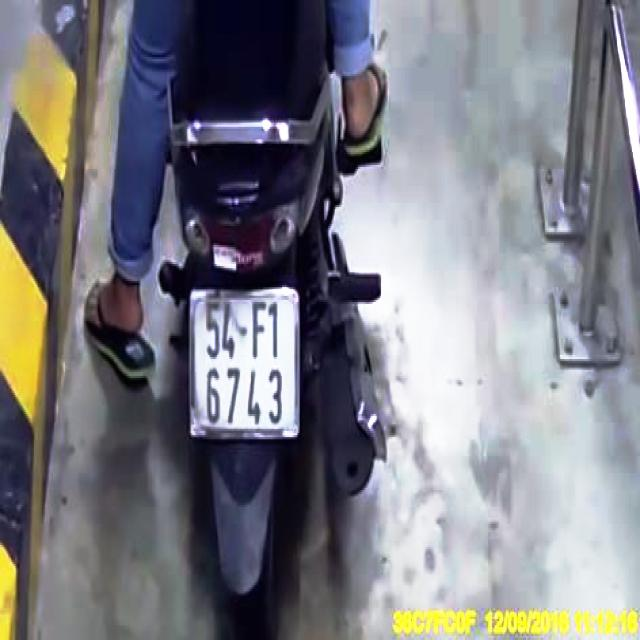license_plate: (189, 292, 299, 440)
